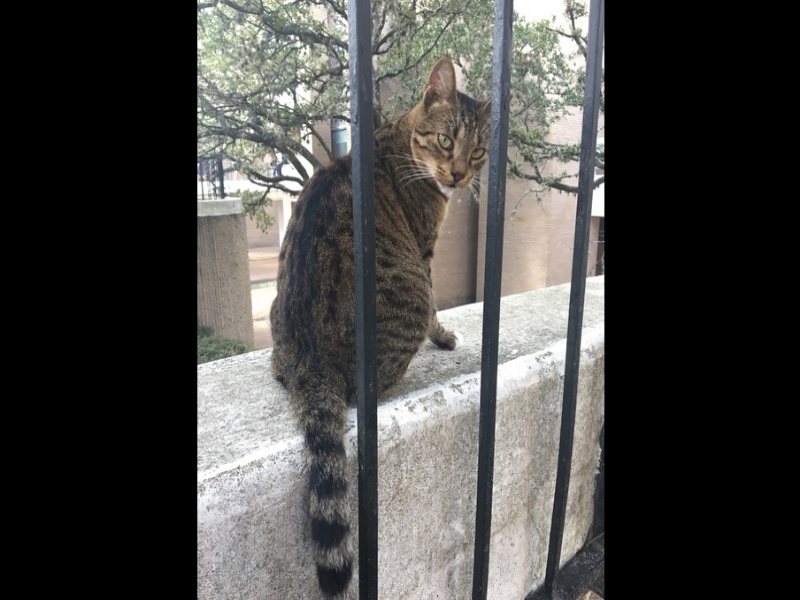cat: (268, 55, 507, 598)
